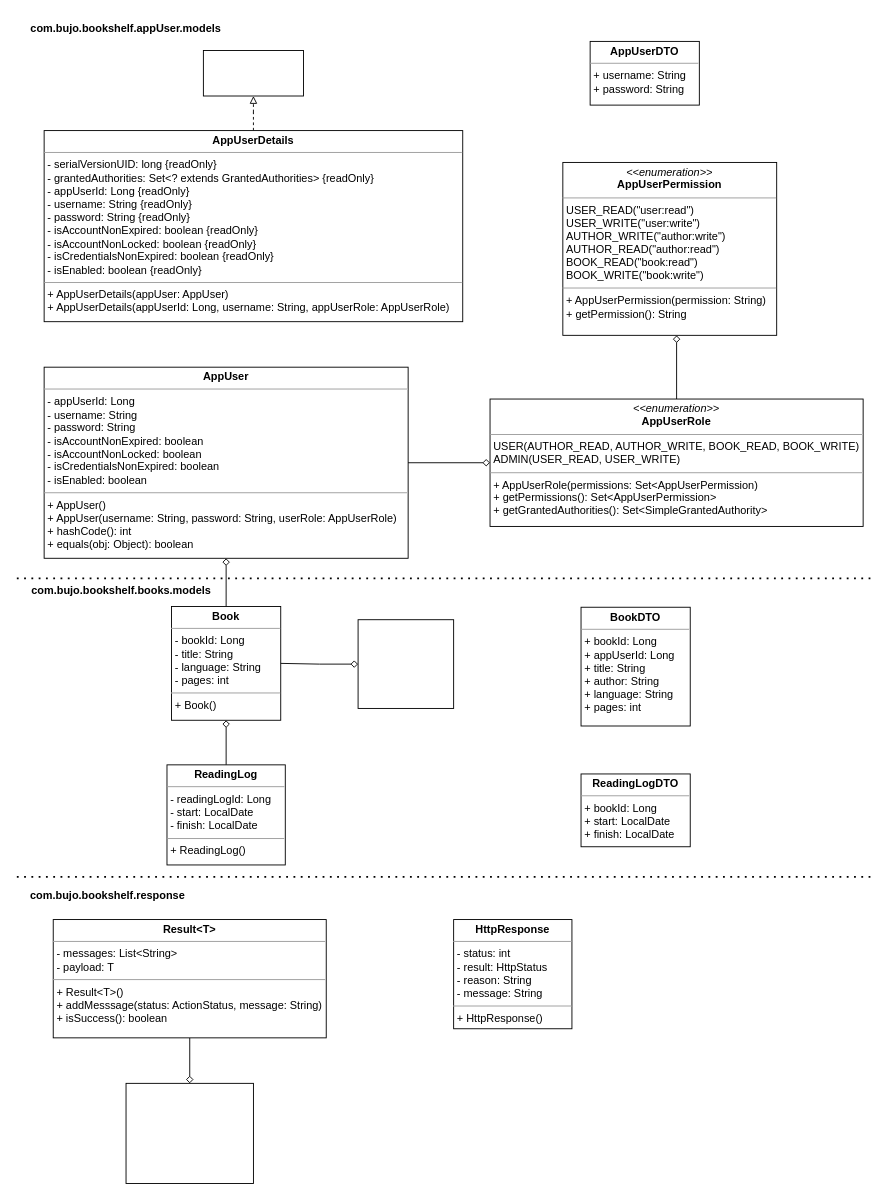
Image size: 889x1199. Some labels were removed from this diagram. Here are the shapes that lost their labels. From the top down, the box of each, then its label:
(202, 50, 303, 96): «interface» UserDetails
(357, 619, 454, 708): Author - authorId: Long - name: String + Author()
(125, 1082, 253, 1183): <<enumeration>> ActionStatus SUCCESS INVALID DUPLICATE NOT_FOUND
